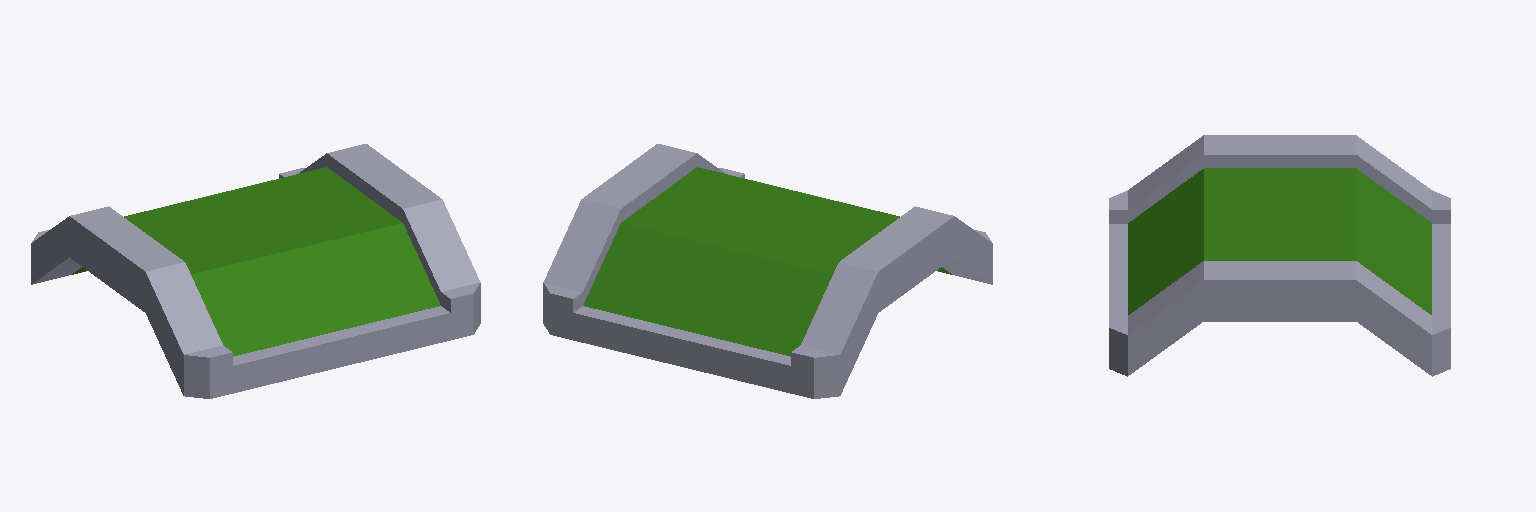
The model's file is start.obj.
3 renders of one model, left to right at view 1: azimuth 30°, elevation 25°; view 2: azimuth 150°, elevation 25°; view 3: azimuth 270°, elevation 25°, orthographic.
Parts seen in each view (by area): view 1: roof_window_5; view 2: roof_window_5; view 3: roof_window_5.
Boxes of the visible parts, <box> form: roof_window_5: <box>31,144,480,398</box>; roof_window_5: <box>543,144,992,398</box>; roof_window_5: <box>1109,135,1450,376</box>.
Bounding box in the file's own units: 1.12 × 0.35 × 1.12.